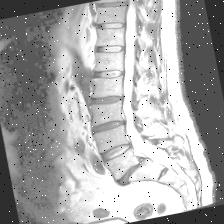disc: (91, 38, 128, 60), (94, 13, 126, 38), (90, 65, 127, 85), (90, 90, 124, 111), (94, 116, 127, 135), (100, 144, 132, 160), (96, 0, 129, 15)
hdisc: (106, 153, 156, 191)
